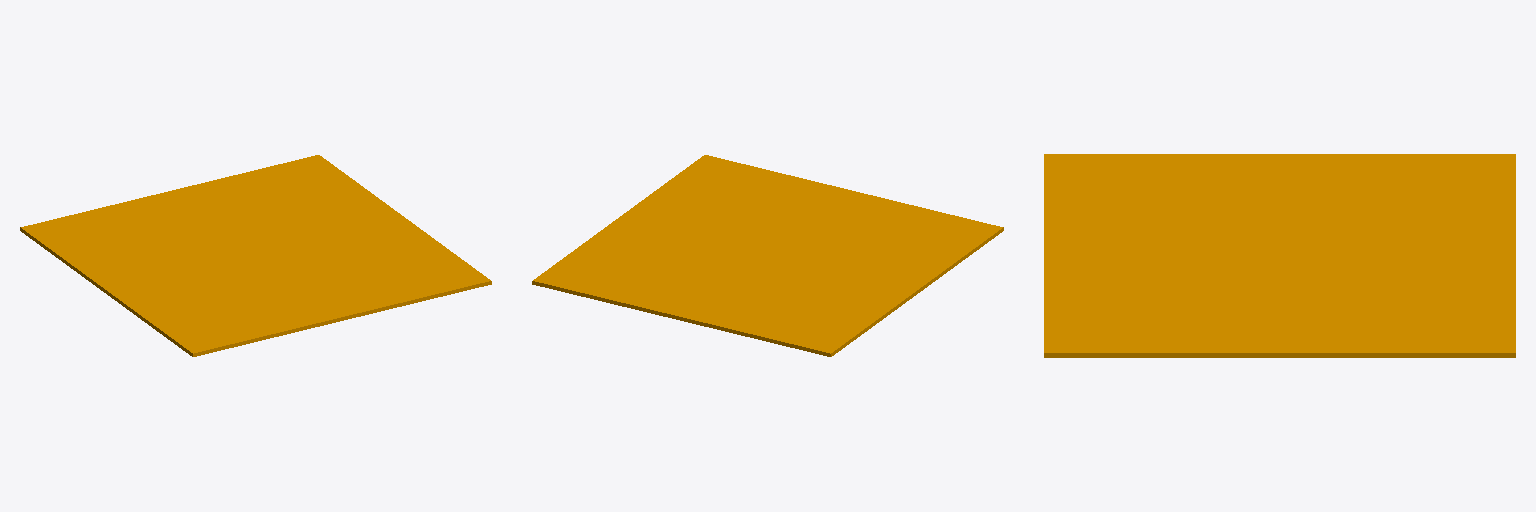
robot.urdf — plate_6mm:
<?xml version="1.0" ?>
<robot xmlns:xacro="http://www.ros.org/wiki/xacro" name="plate_6mm">

    <link name="plate_6mm">
        <inertial>
            <origin xyz="0.0 0.0 0.003" rpy="0 0 0"/>
            <mass value="1.8"/>
            <inertia ixx="0.038" ixy="0.0" ixz="0.0" iyy="0.038" iyz="0.0" izz="0.075"/>
        </inertial>

        <visual>
            <origin xyz="0.0 0.0 0.0" rpy="0.0 0.0 0.0"/>
            <geometry>
                <mesh filename="./meshes/plate_6mm/plate_6mm.obj" scale="1 1 1"/>
            </geometry>
        </visual>

        <collision>
            <origin xyz="0.0 0.0 0.003" rpy="0.0 0.0 0.0"/>
            <geometry>
                <box size="0.5 0.5 0.006"/>
            </geometry>
        </collision>
    </link>

</robot>

--- Facts derived from the render (not from the file) ---
Views: 3 orthographic renders of the robot side by side, from view 1: azimuth 30°, elevation 25°; view 2: azimuth 150°, elevation 25°; view 3: azimuth 270°, elevation 25°.
Robot: plate_6mm — 1 links, 0 joints (none); root link plate_6mm; default pose: every joint at zero.
Visible links, largest first — view 1: plate_6mm; view 2: plate_6mm; view 3: plate_6mm.
Link boxes in pixels (bbox=[...]): plate_6mm: bbox=[20, 155, 491, 356]; plate_6mm: bbox=[532, 155, 1003, 356]; plate_6mm: bbox=[1044, 154, 1515, 357].
Bounding box of the posed robot: 0.5 × 0.5 × 0.006 m (x, y, z).
1 mesh visuals loaded from 1 distinct referenced files (1 OBJ).
